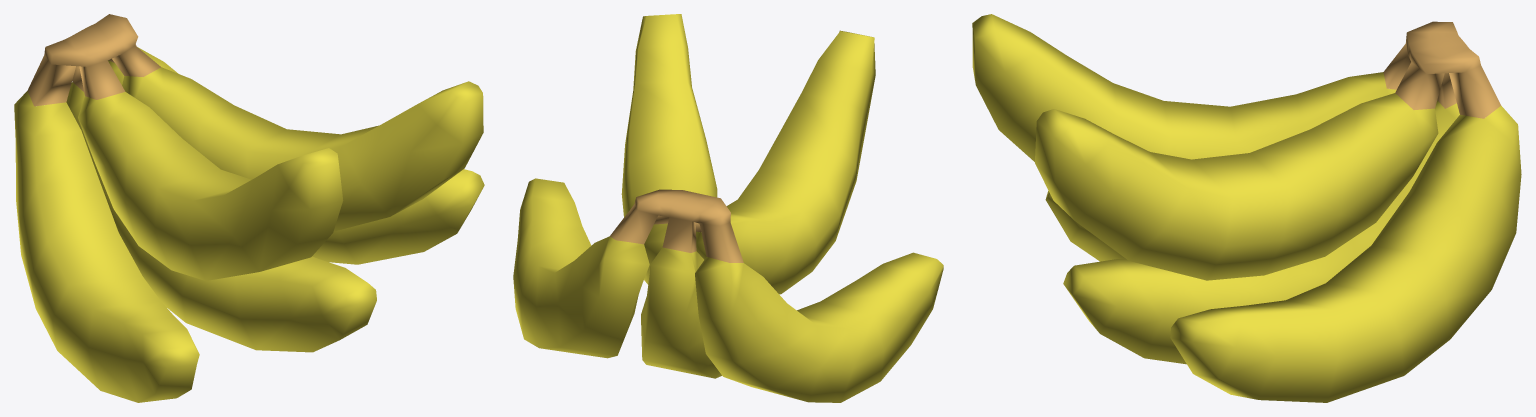
File: Banana Bundle-transformed.glb
3 renders of one model, left to right at view 1: azimuth 30°, elevation 25°; view 2: azimuth 150°, elevation 25°; view 3: azimuth 270°, elevation 25°, orthographic. The views are drawn at different scales.
Visible parts, largest first — view 1: Banana2; view 2: Banana2; view 3: Banana2.
Part boxes in pixels (x1=…): Banana2: x1=14, y1=14, x2=484, y2=402; Banana2: x1=513, y1=14, x2=943, y2=402; Banana2: x1=972, y1=14, x2=1521, y2=402.
Size of the model in its own units: 0.3013 by 0.2079 by 0.3306.
